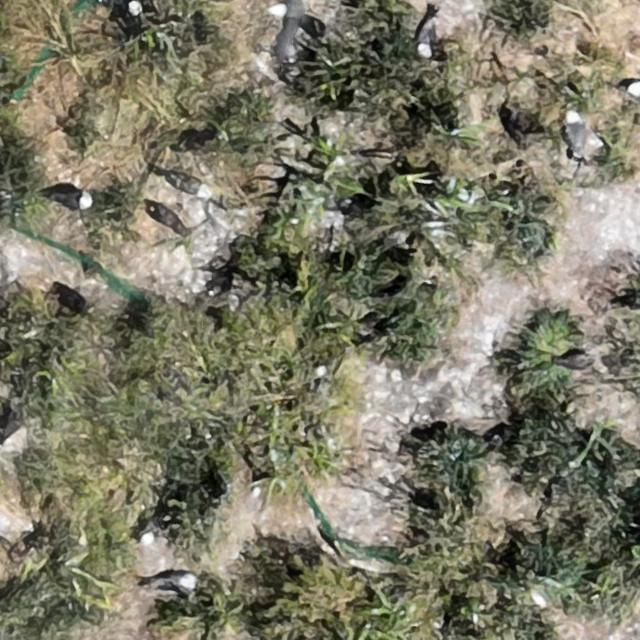F: (272, 0, 314, 62)
umineko: (166, 171, 214, 200), (564, 111, 586, 155), (143, 514, 165, 549), (56, 191, 95, 210), (415, 18, 434, 55), (160, 573, 196, 590), (626, 81, 640, 101), (126, 2, 142, 18)
